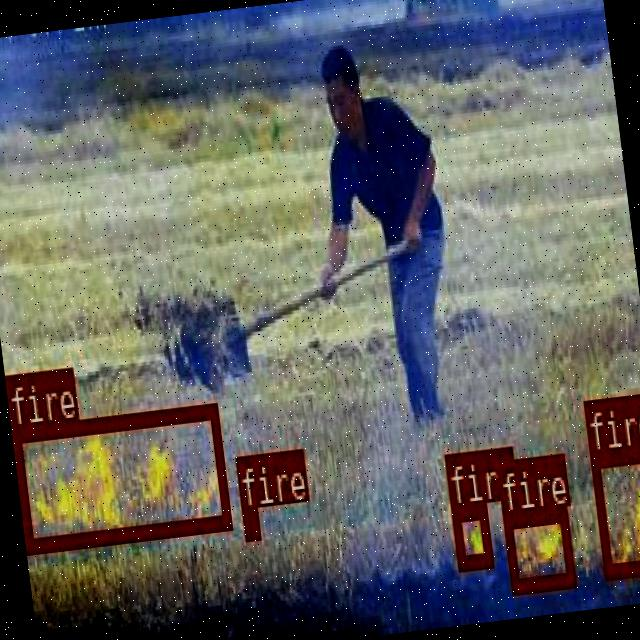fire: (10, 400, 228, 550), (588, 443, 640, 575), (501, 504, 574, 590), (448, 500, 491, 567), (239, 504, 258, 536)
